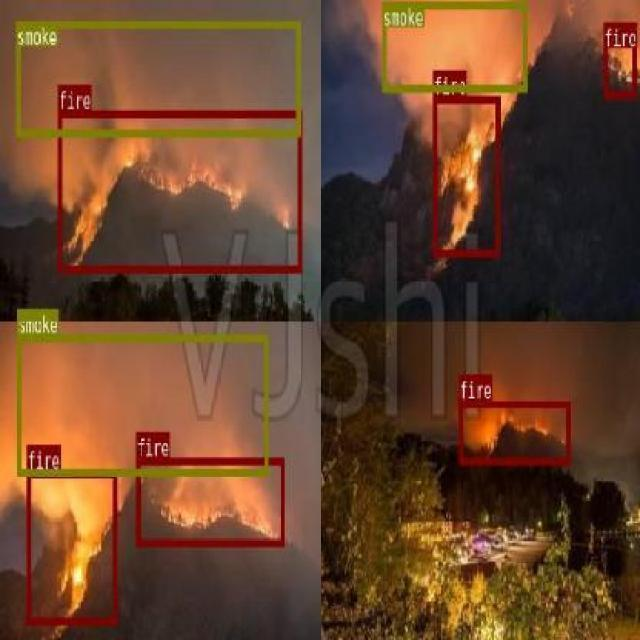Fire: (72, 120, 312, 255), (20, 448, 128, 635), (165, 422, 305, 545), (420, 108, 503, 248), (460, 392, 582, 474), (595, 25, 640, 98)
Smoke: (0, 312, 315, 552), (0, 0, 328, 188), (373, 323, 638, 516), (365, 0, 517, 130)
